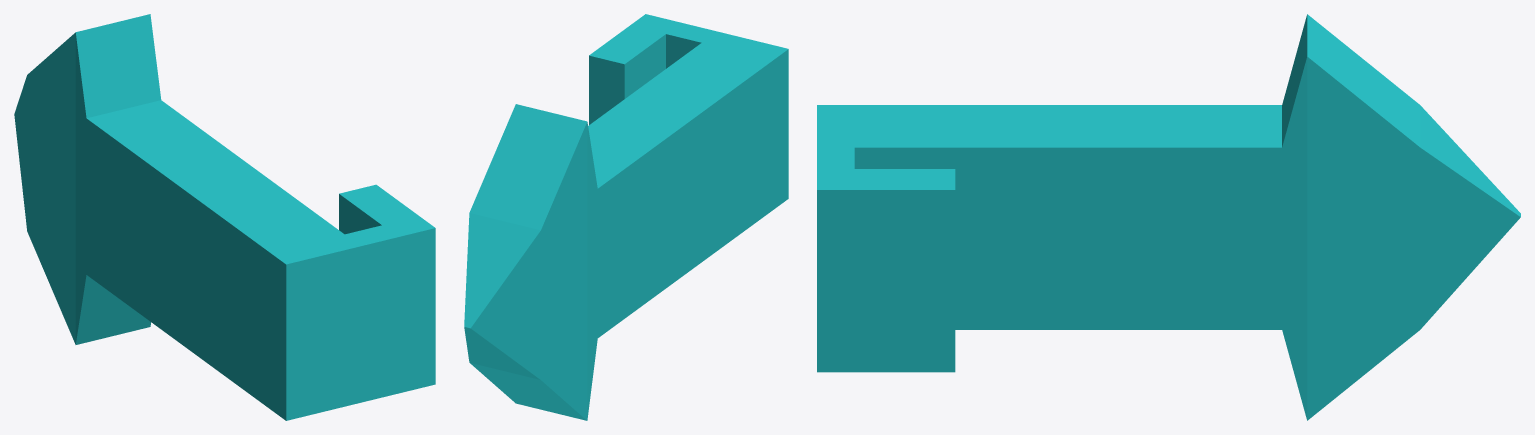
The model's file is Arrow.fbx.
3 views of the same model, side by side, from view 1: azimuth 30°, elevation 25°; view 2: azimuth 150°, elevation 25°; view 3: azimuth 270°, elevation 25° (orthographic). The views are drawn at different scales.
Visible parts, largest first — view 1: Cube; view 2: Cube; view 3: Cube.
Boxes of the visible parts, <box> form: Cube: <box>14,14,435,420</box>; Cube: <box>464,14,788,420</box>; Cube: <box>817,14,1520,420</box>.
Size of the model in its own units: 2 by 4 by 7.
